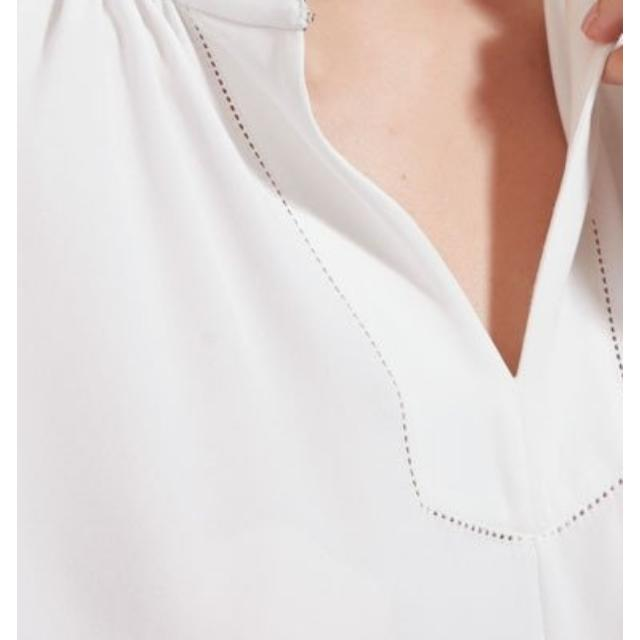silk: (17, 0, 623, 640)
